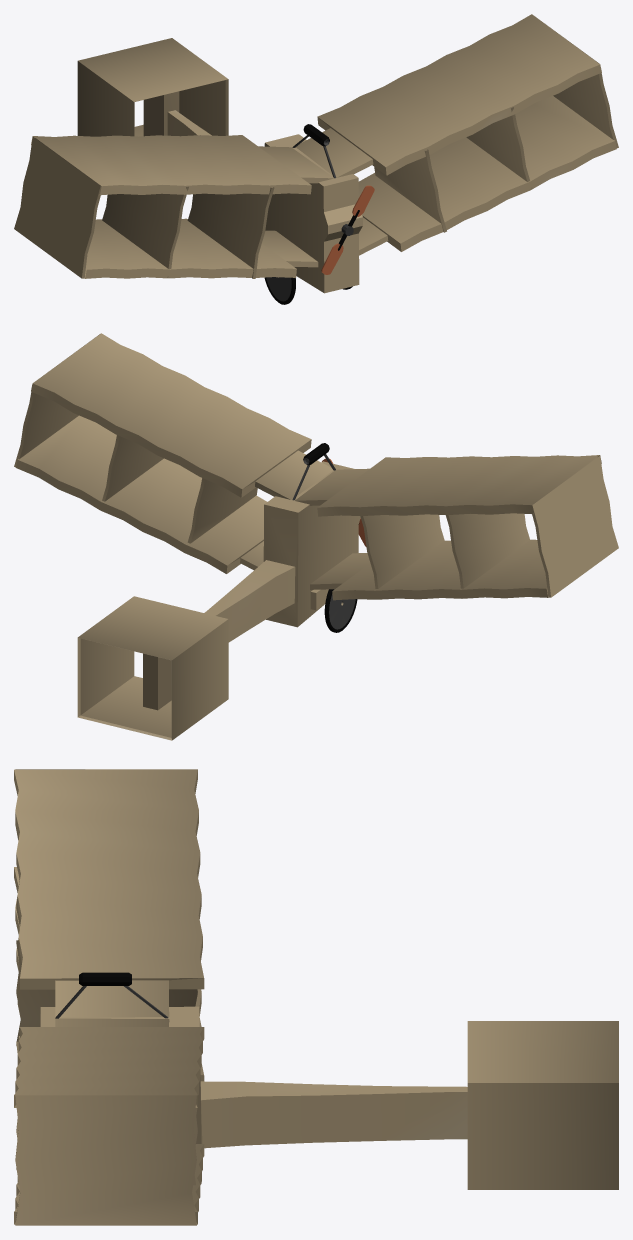
Rendered from 14Bis.fbx.
The picture shows the model from 3 angles, top to bottom: view 1: azimuth 30°, elevation 25°; view 2: azimuth 150°, elevation 25°; view 3: azimuth 270°, elevation 25°; orthographic projection. The views are drawn at different scales.
Parts seen in each view (by area): view 1: 14bis; view 2: 14bis; view 3: 14bis.
Part boxes in pixels (x1,y1,x2,y2): 14bis: [14, 14, 618, 304]; 14bis: [14, 333, 618, 740]; 14bis: [14, 769, 618, 1225].
Bounding box in the file's own units: 829 × 294 × 605.
